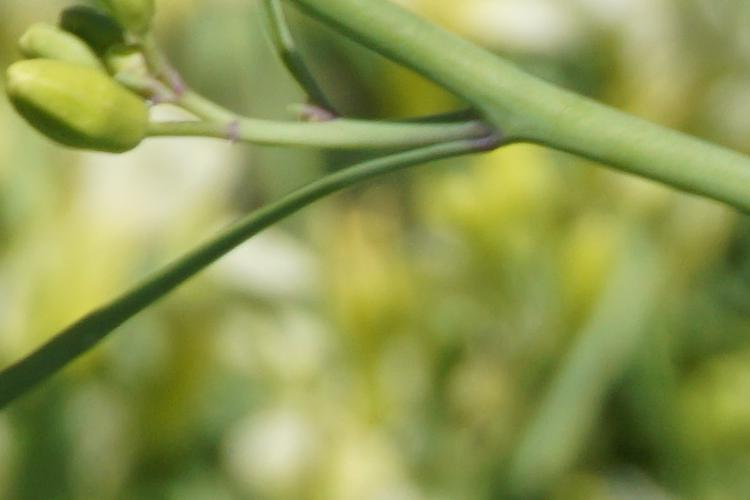bud: (20, 58, 145, 155), (28, 24, 99, 79), (62, 7, 133, 52), (108, 45, 149, 81)
